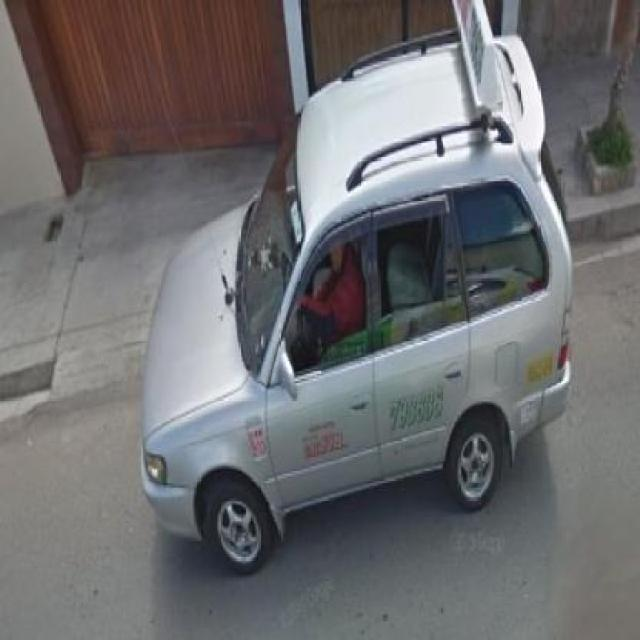car: (142, 30, 576, 584)
